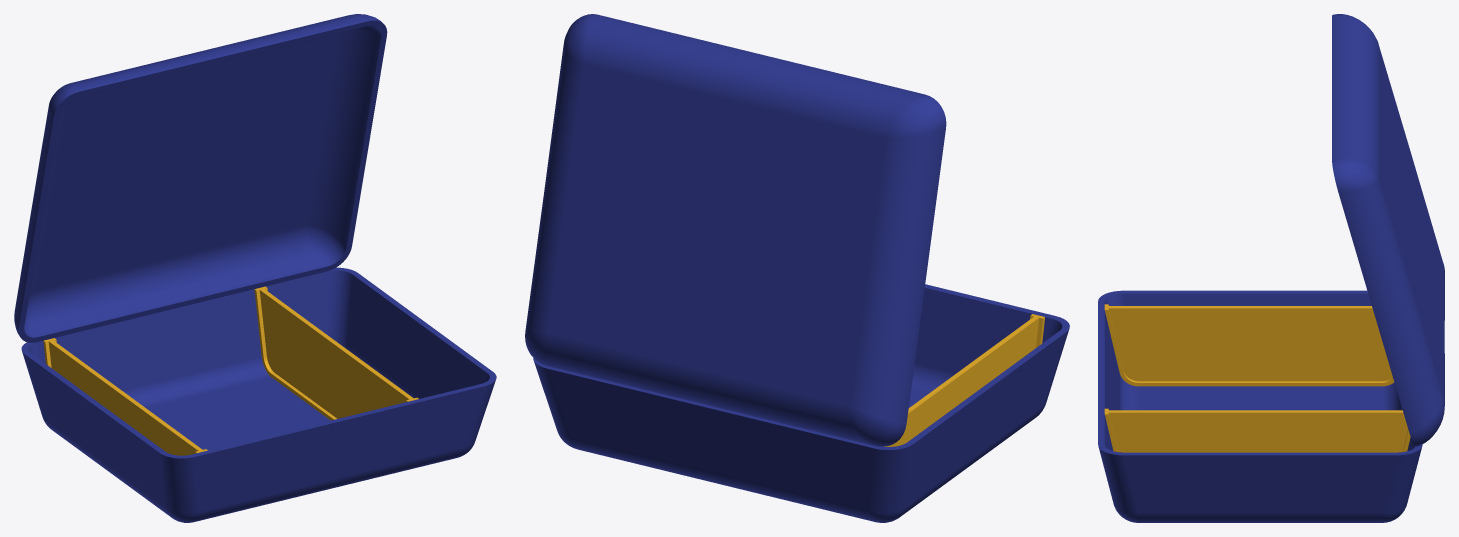
The model's file is Lunch Box Assembly_Maria.fbx.
The picture shows the model from 3 angles, left to right: view 1: azimuth 30°, elevation 25°; view 2: azimuth 150°, elevation 25°; view 3: azimuth 270°, elevation 25°; orthographic projection. The views are drawn at different scales.
Parts seen in each view (by area): view 1: Lid, Clip, Divider 2, Divider 1; view 2: Lid, Clip, Divider 1; view 3: Clip, Lid, Divider 1, Divider 2.
Boxes of the visible parts, x1,y1,x2,y2 form: Lid: (14,14,387,342); Clip: (21,267,496,522); Divider 2: (254,286,418,420); Divider 1: (43,338,207,455); Lid: (525,14,946,446); Clip: (533,284,1069,522); Divider 1: (884,314,1044,446); Clip: (1098,290,1422,522); Lid: (1332,14,1444,446); Divider 1: (1104,304,1394,386); Divider 2: (1104,408,1410,452).
Bounding box in the file's own units: 300 × 312 × 267.
